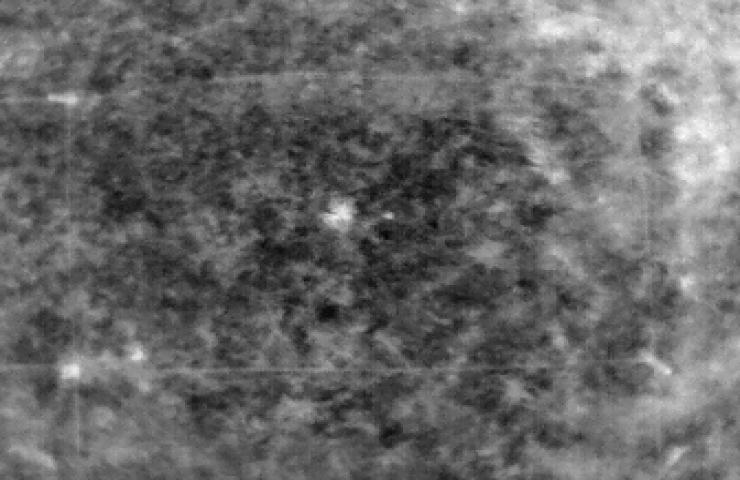landmines: (326, 201, 357, 230)
